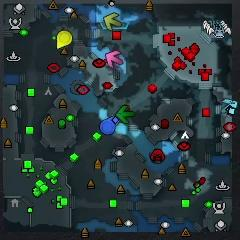p1: (99, 115, 118, 136)
p4: (57, 30, 72, 49)
x1: (106, 51, 123, 67)
x2: (103, 13, 121, 30)
x3: (222, 98, 238, 115)
x4: (117, 106, 134, 122)
